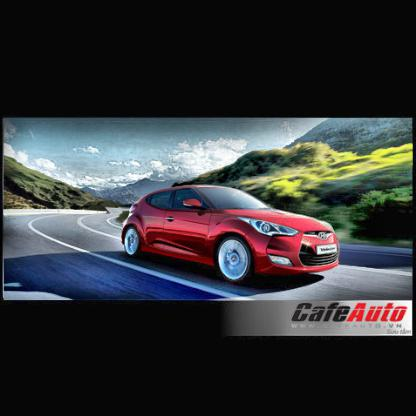Hyundai Veloster Hatchback 2012: (122, 185, 345, 292)
